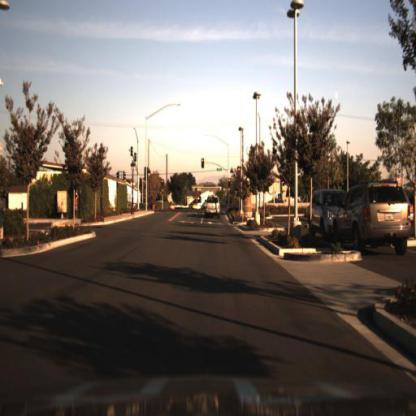car: (336, 179, 415, 266), (303, 189, 348, 236), (205, 194, 222, 218)
trafficLight-Red: (227, 176, 233, 187), (238, 165, 242, 181), (159, 178, 165, 188), (201, 156, 206, 168)
